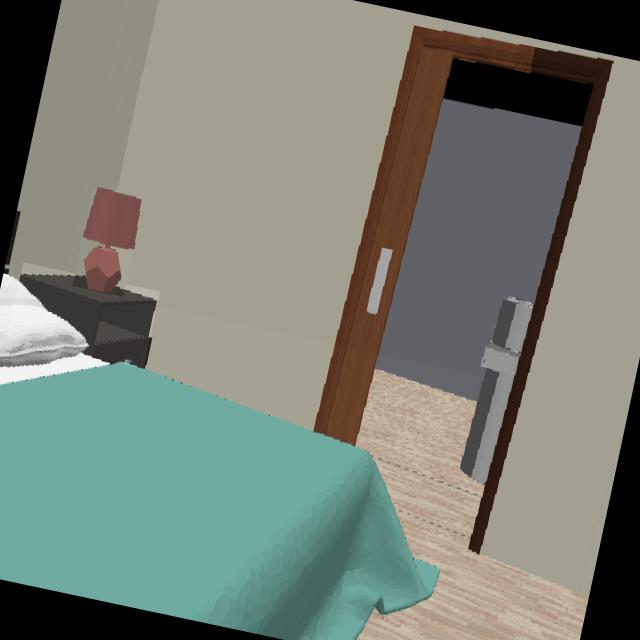bed: (0, 274, 438, 640)
lamp: (83, 188, 141, 292)
nighttable: (20, 275, 156, 367)
